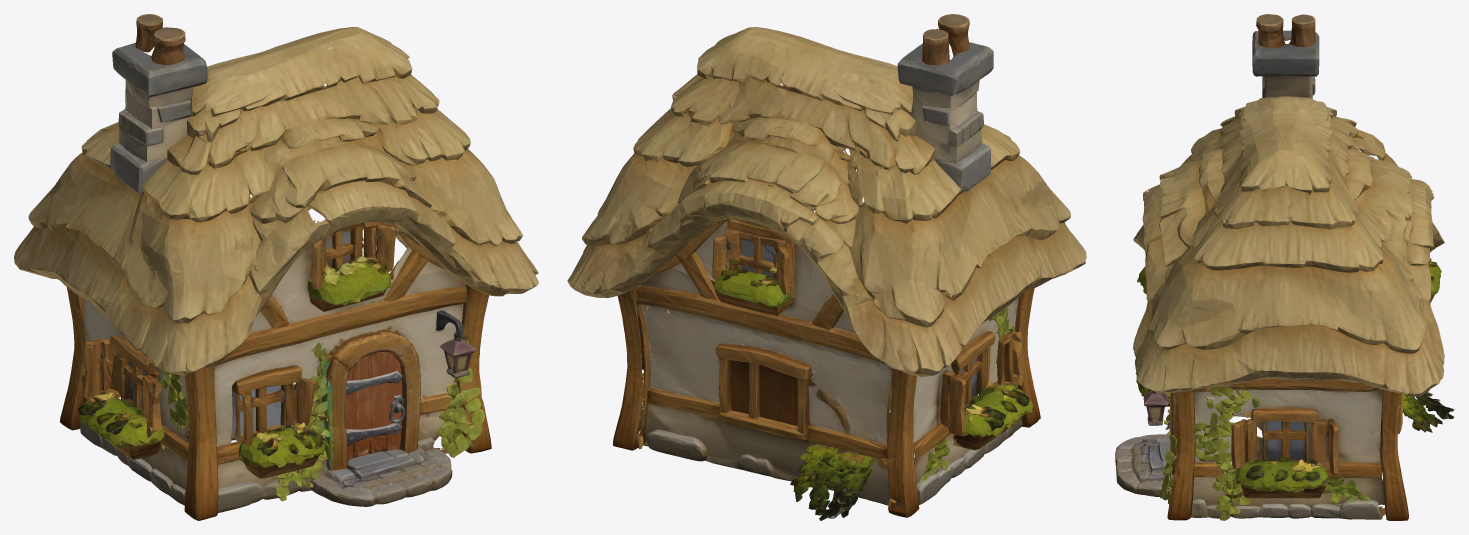
Rendered from refined.glb.
The picture shows the model from 3 angles, left to right: view 1: azimuth 30°, elevation 25°; view 2: azimuth 150°, elevation 25°; view 3: azimuth 270°, elevation 25°; orthographic projection. The views are drawn at different scales.
Visible parts, largest first — view 1: world; view 2: world; view 3: world.
Boxes of the visible parts, <box> form: world: <box>14,14,538,520</box>; world: <box>567,14,1086,520</box>; world: <box>1115,14,1454,520</box>.
Bounding box in the file's own units: 0.9392 × 1 × 0.7951.
1 material, 1 textured.
